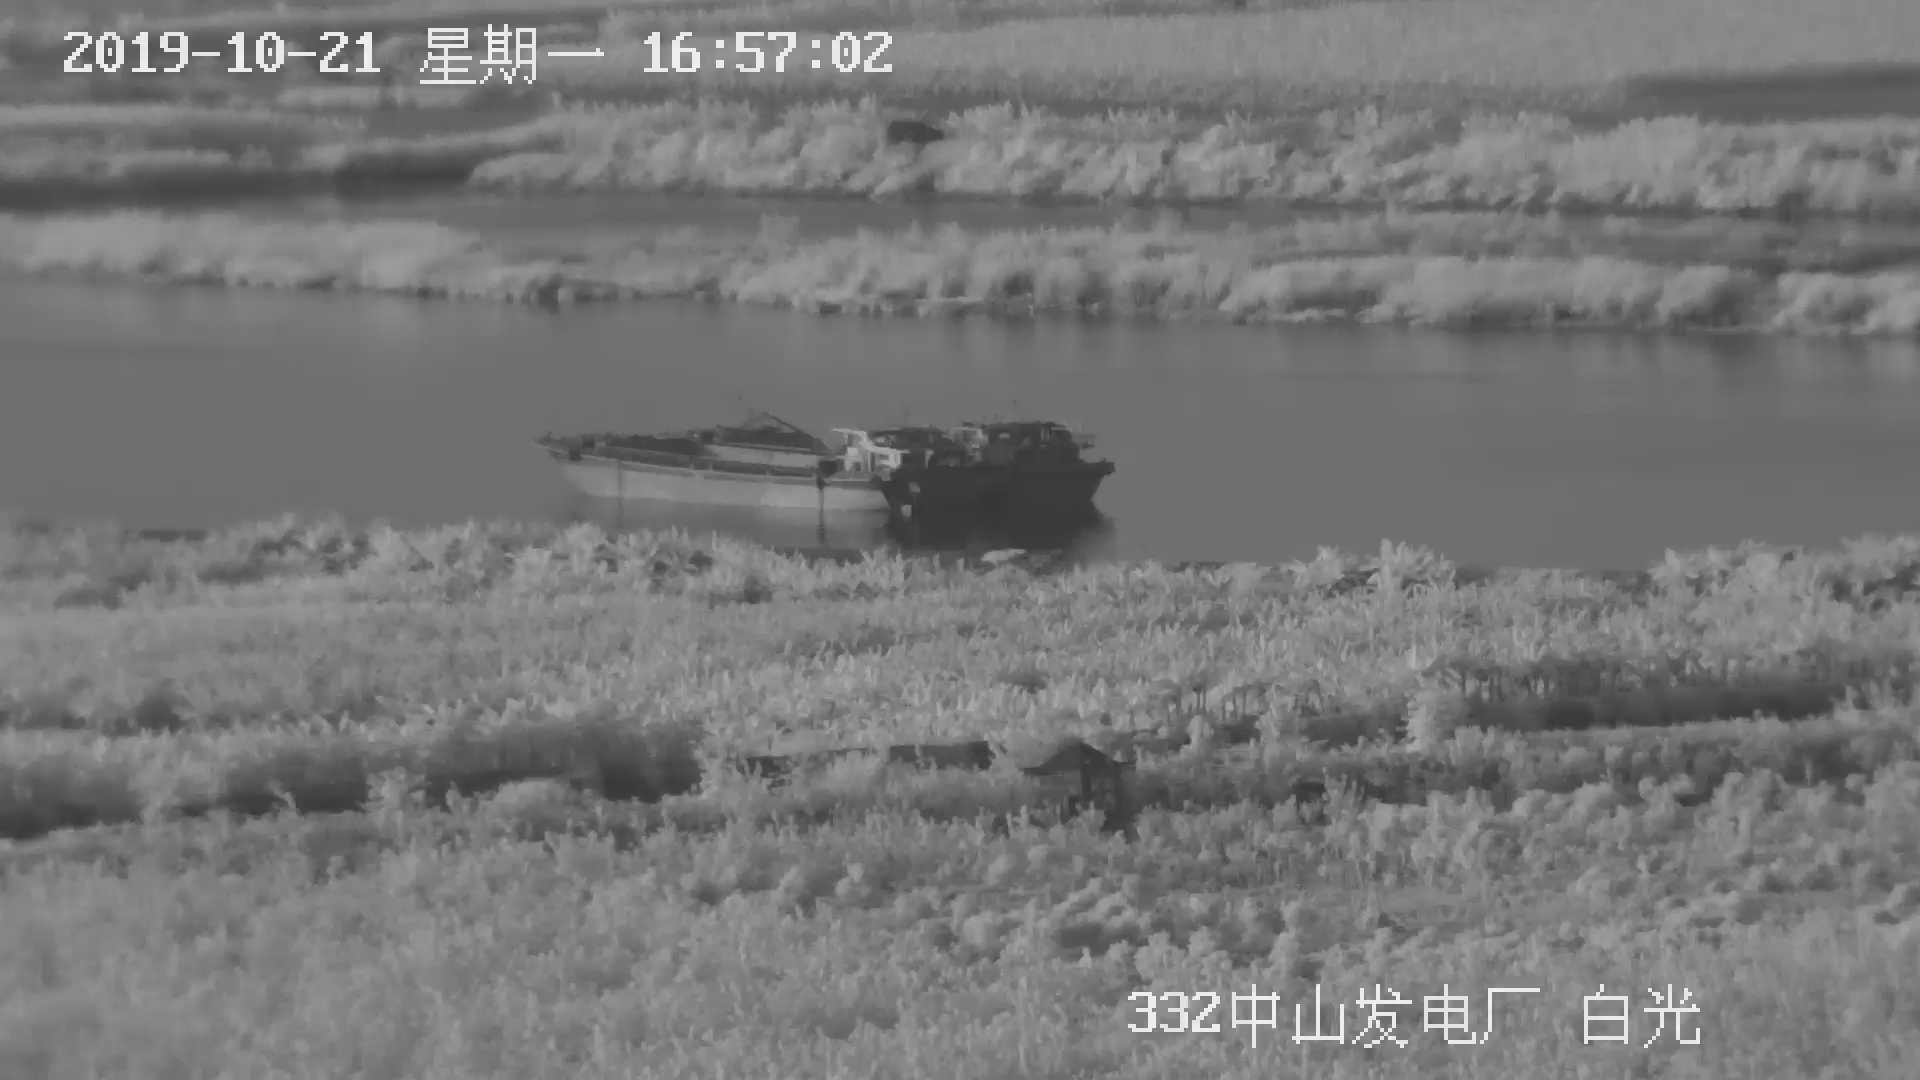ship: (531, 411, 1117, 534)
